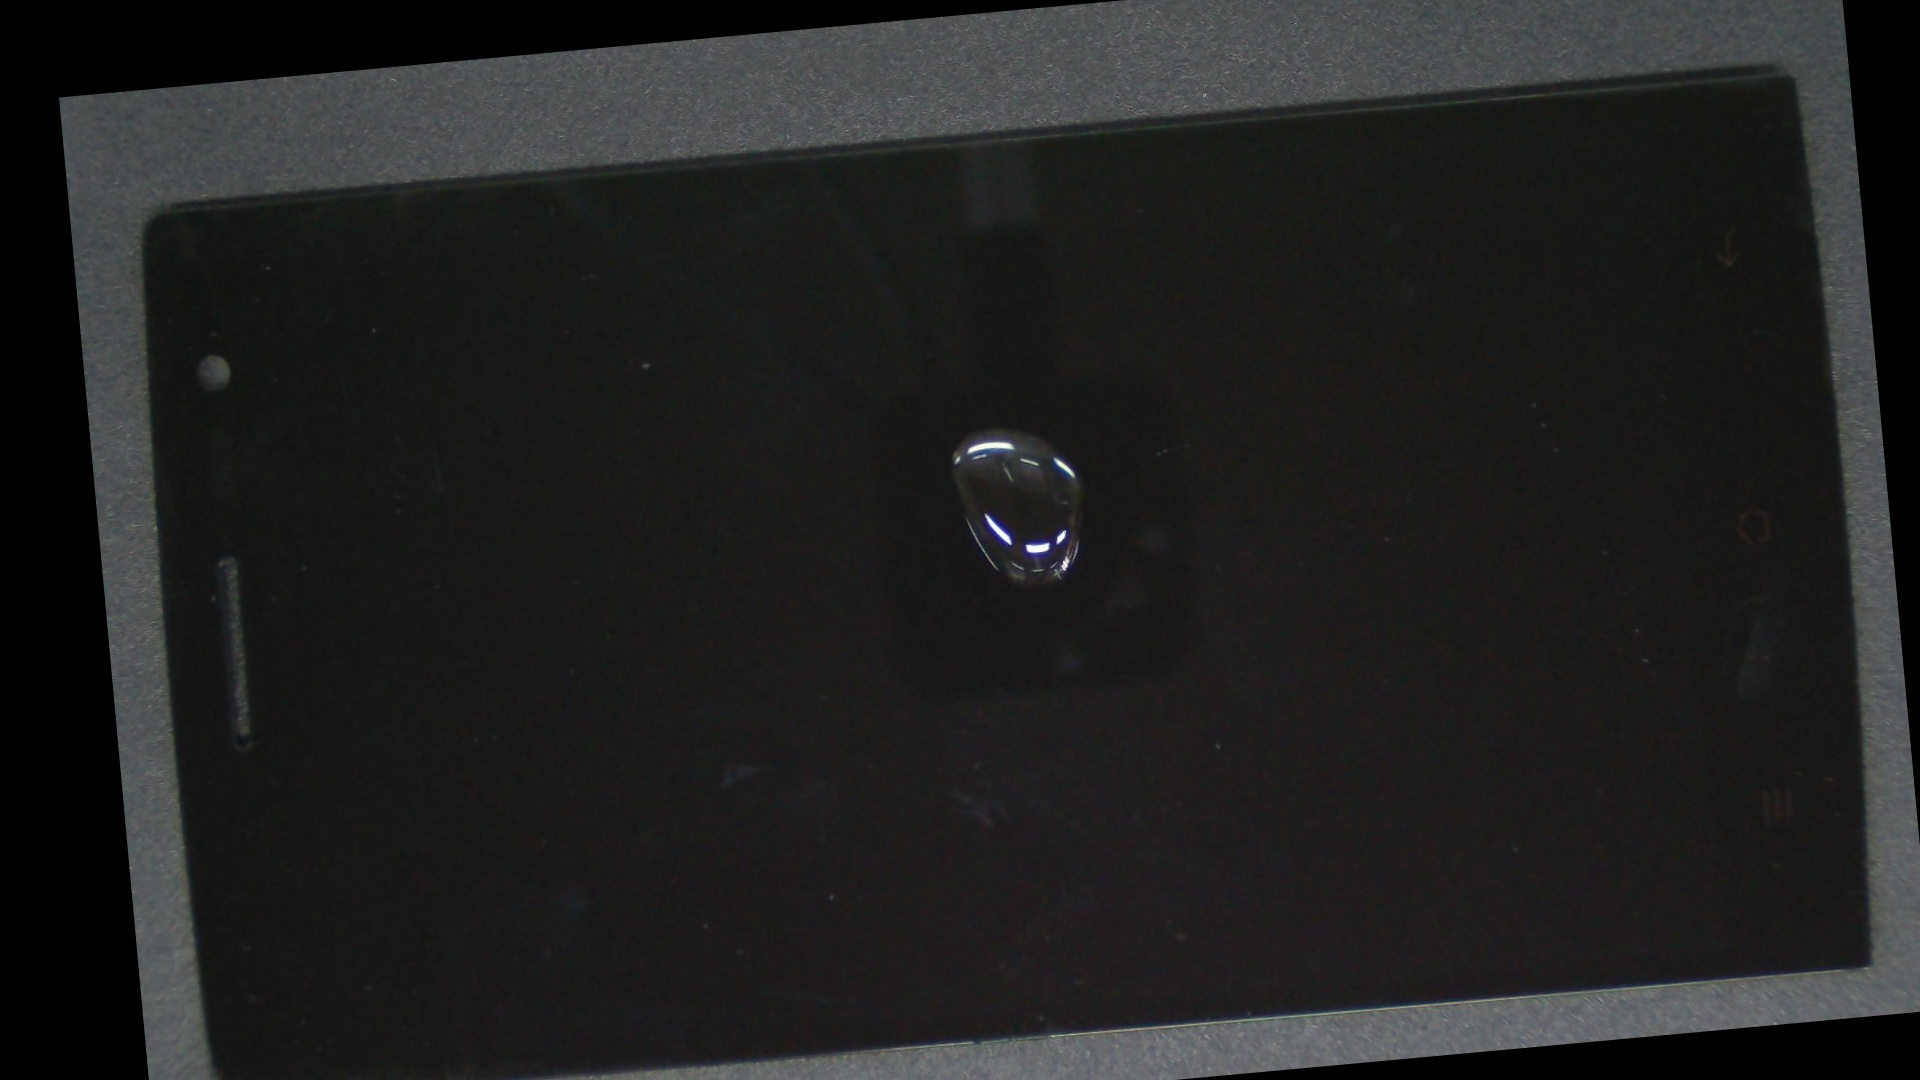oil: (520, 183, 1439, 678)
